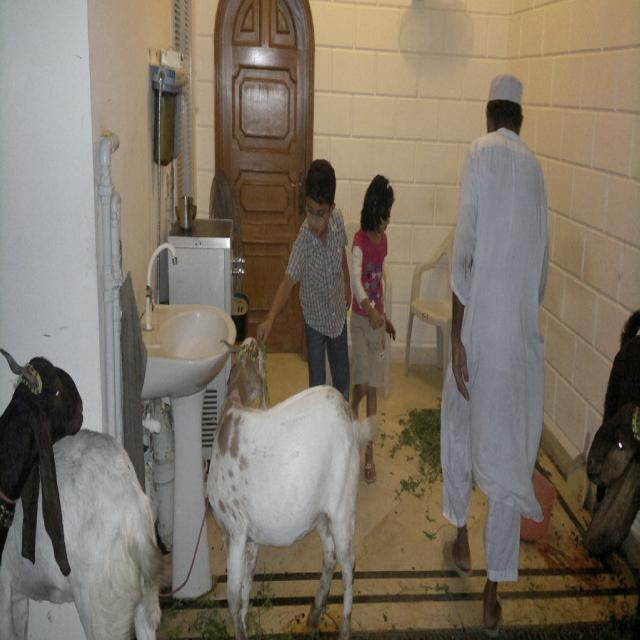Goat: (205, 334, 378, 638), (0, 346, 170, 637)
